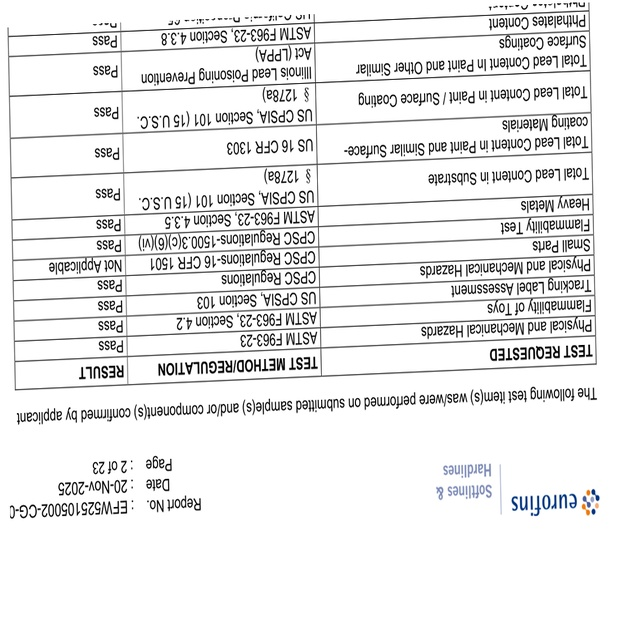eurofins: (508, 488, 603, 522)
